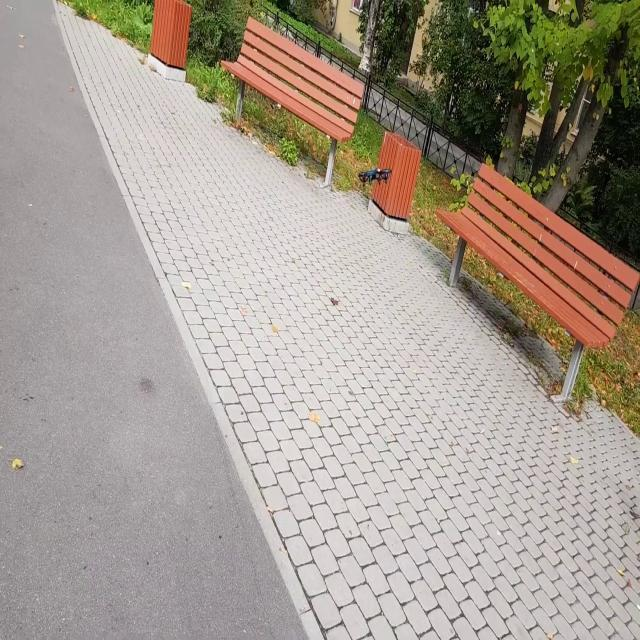Drons: (357, 166, 394, 186)
